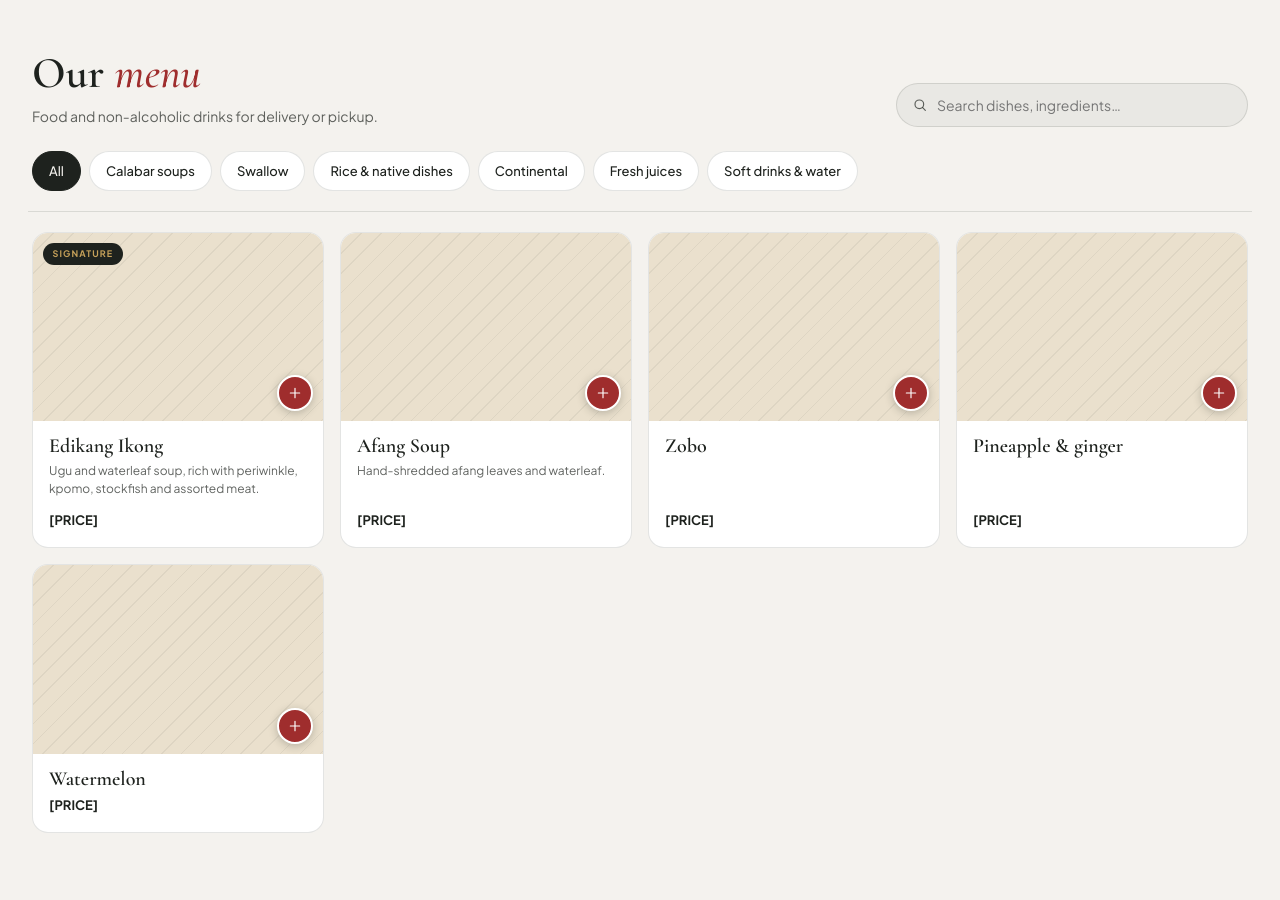
Test: MenuSection › shows a friendly message for a category with no items yet
Click the tab "Swallow" at (263, 171), box [220, 151, 305, 191]
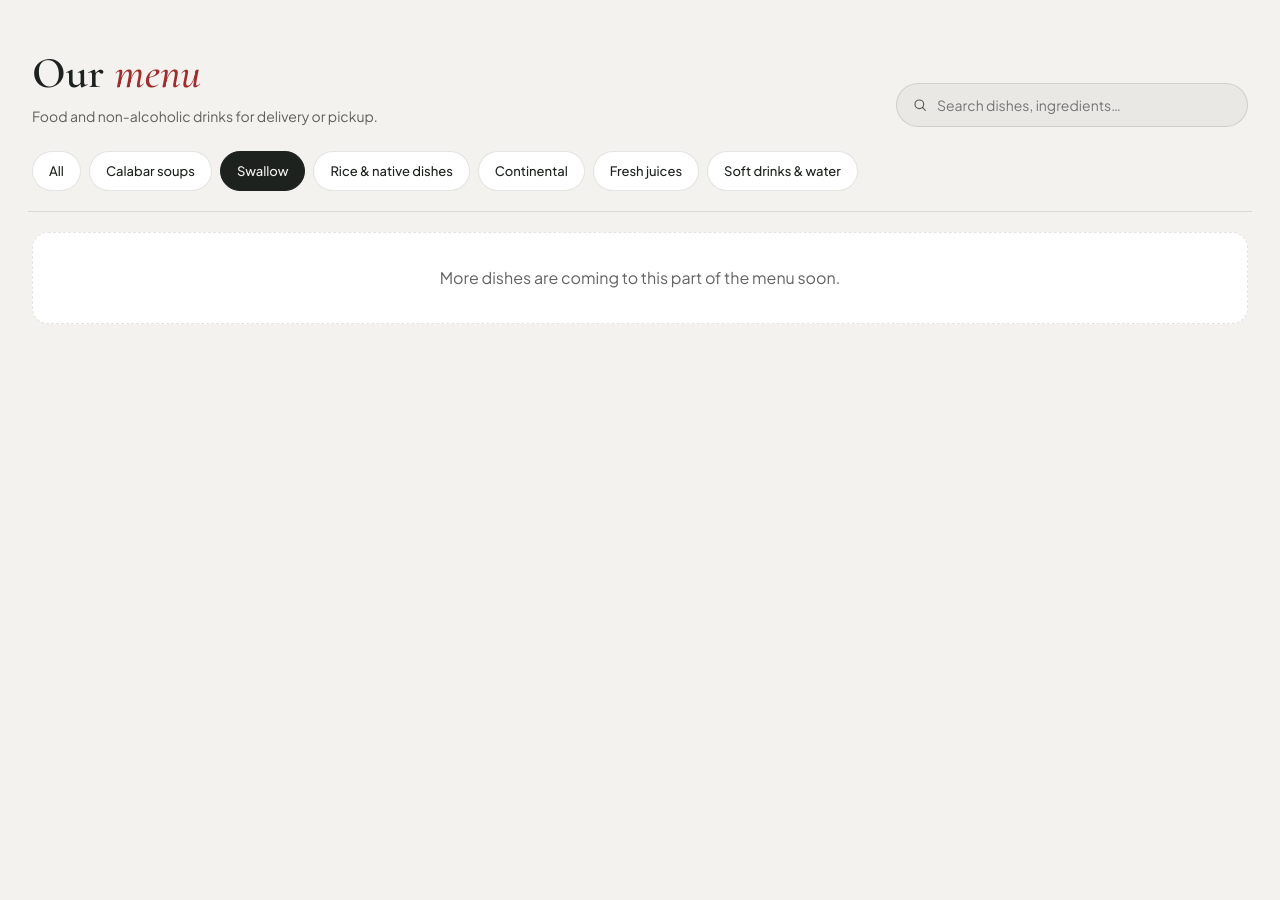
Result: the text "More dishes are coming to this part of the menu soon." is shown at [32, 232, 1248, 324]
